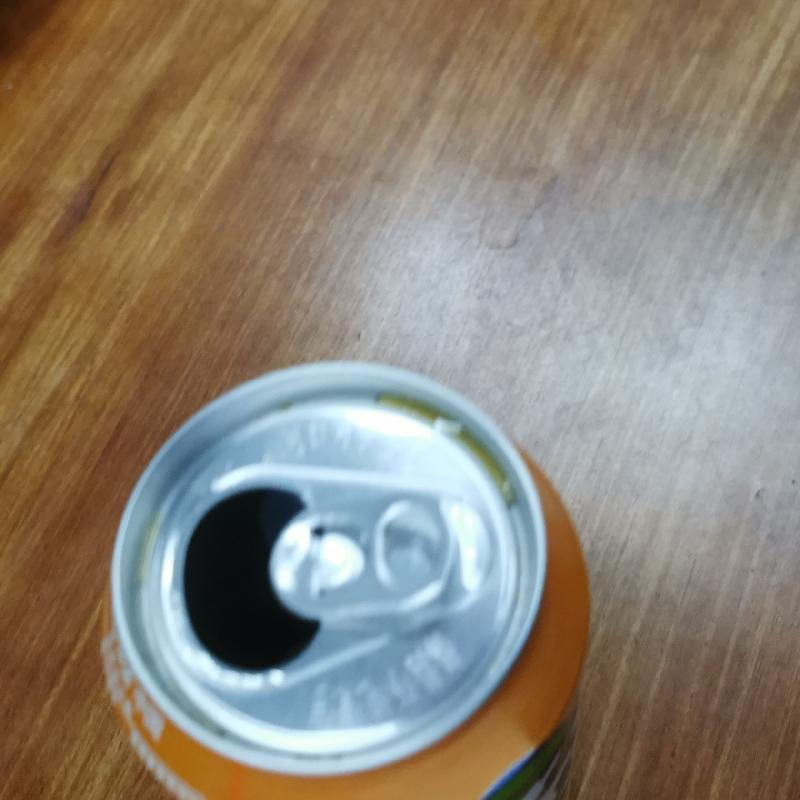cans: (97, 354, 593, 800)
